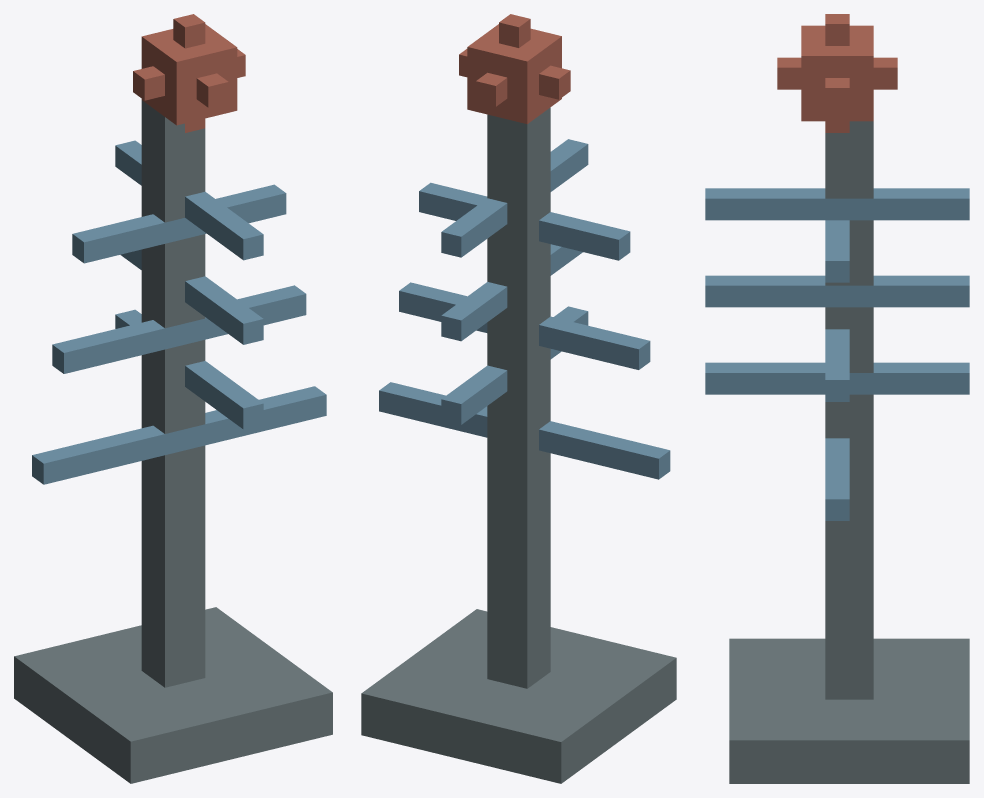
3 views of the same model, side by side, from view 1: azimuth 30°, elevation 25°; view 2: azimuth 150°, elevation 25°; view 3: azimuth 270°, elevation 25° (orthographic). The views are drawn at different scales.
Parts seen in each view (by area): view 1: Sensor array; view 2: Sensor array; view 3: Sensor array.
Boxes of the visible parts, left/top/right/bottom form: Sensor array: left=14, top=14, right=332, bottom=783; Sensor array: left=361, top=14, right=676, bottom=783; Sensor array: left=705, top=14, right=969, bottom=783.
Bounding box in the file's own units: 1.12 × 2.64 × 0.88.
